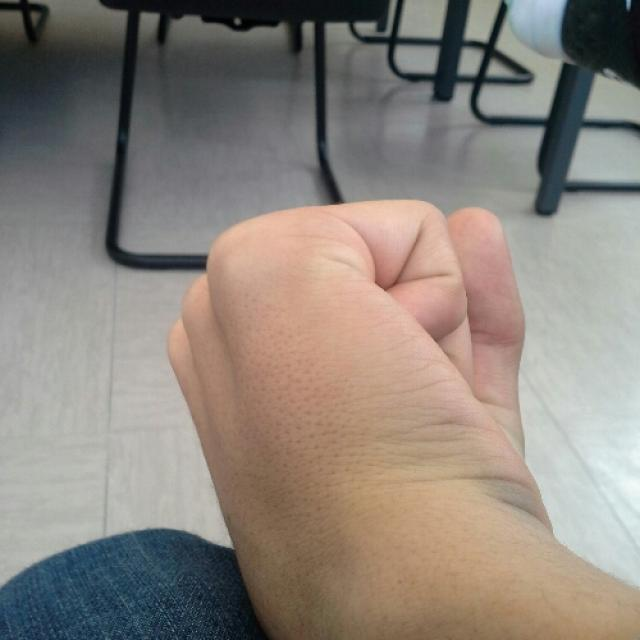rock: (167, 195, 532, 553)
